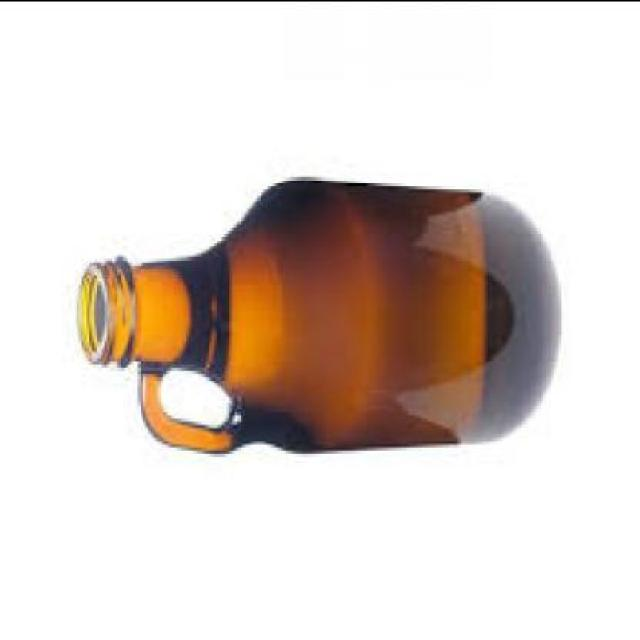GLASS: (77, 182, 551, 456)
